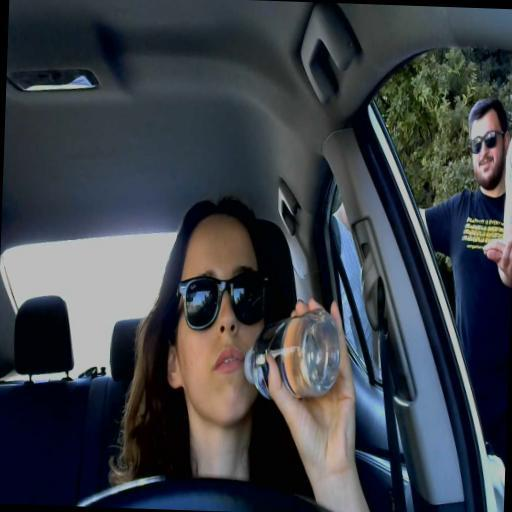Drinking: (168, 215, 347, 450)
